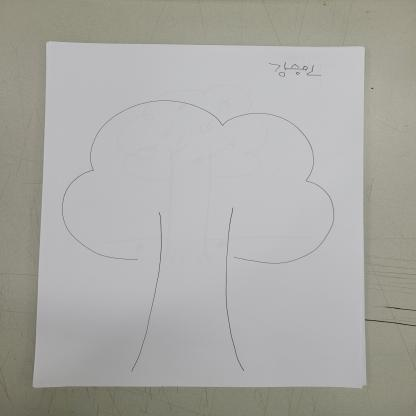crown_cloud: (58, 95, 340, 266)
trunk_straight: (138, 260, 238, 352)
